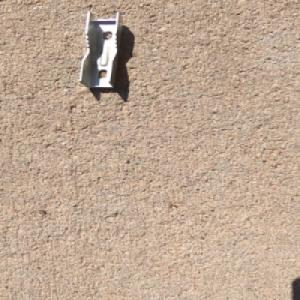ClampPart: (77, 9, 129, 91)
